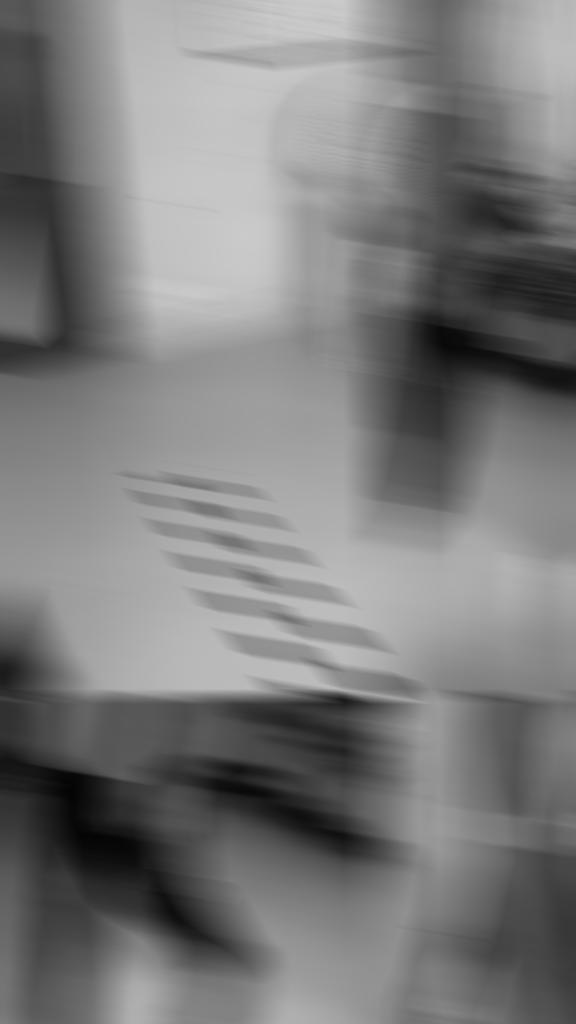BorderLine: (144, 464, 403, 698)
Person: (0, 694, 255, 1024), (379, 0, 520, 556), (401, 694, 576, 1024), (0, 0, 69, 697)
Vest: (452, 694, 576, 1024), (379, 0, 520, 270), (5, 694, 231, 782)
